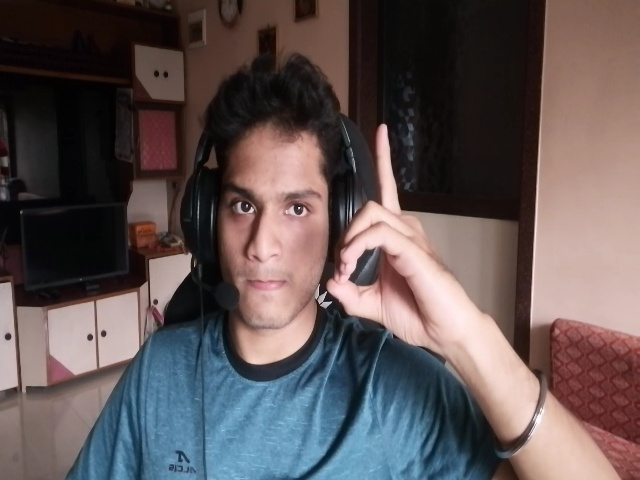D: (325, 120, 448, 351)
